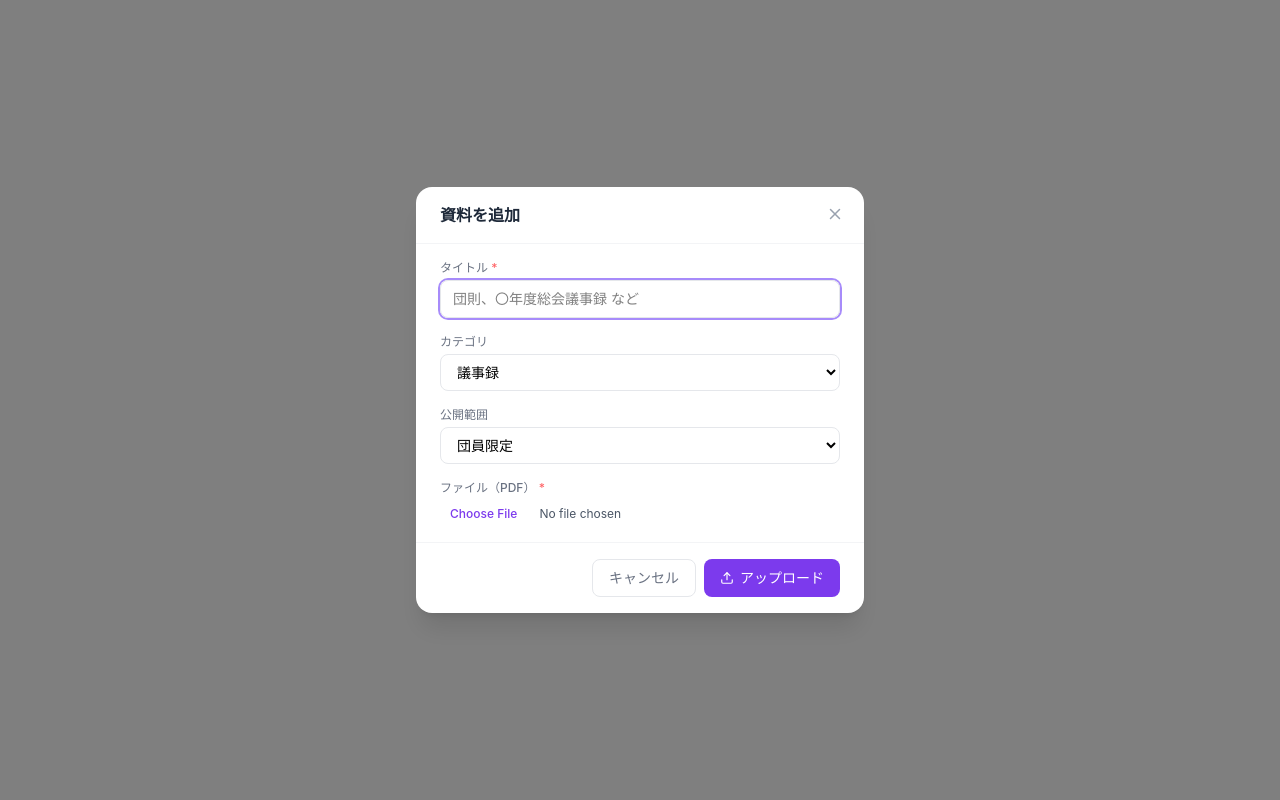
UploadModal › ファイルを選ばずにタイトルの欄でEnterを押すと、理由を出して送らない
Step 1. Type "団則" into the field labelled "タイトル *" → {"x": 640, "y": 299}, box x1=440 y1=280 x2=840 y2=318
Then press Enter
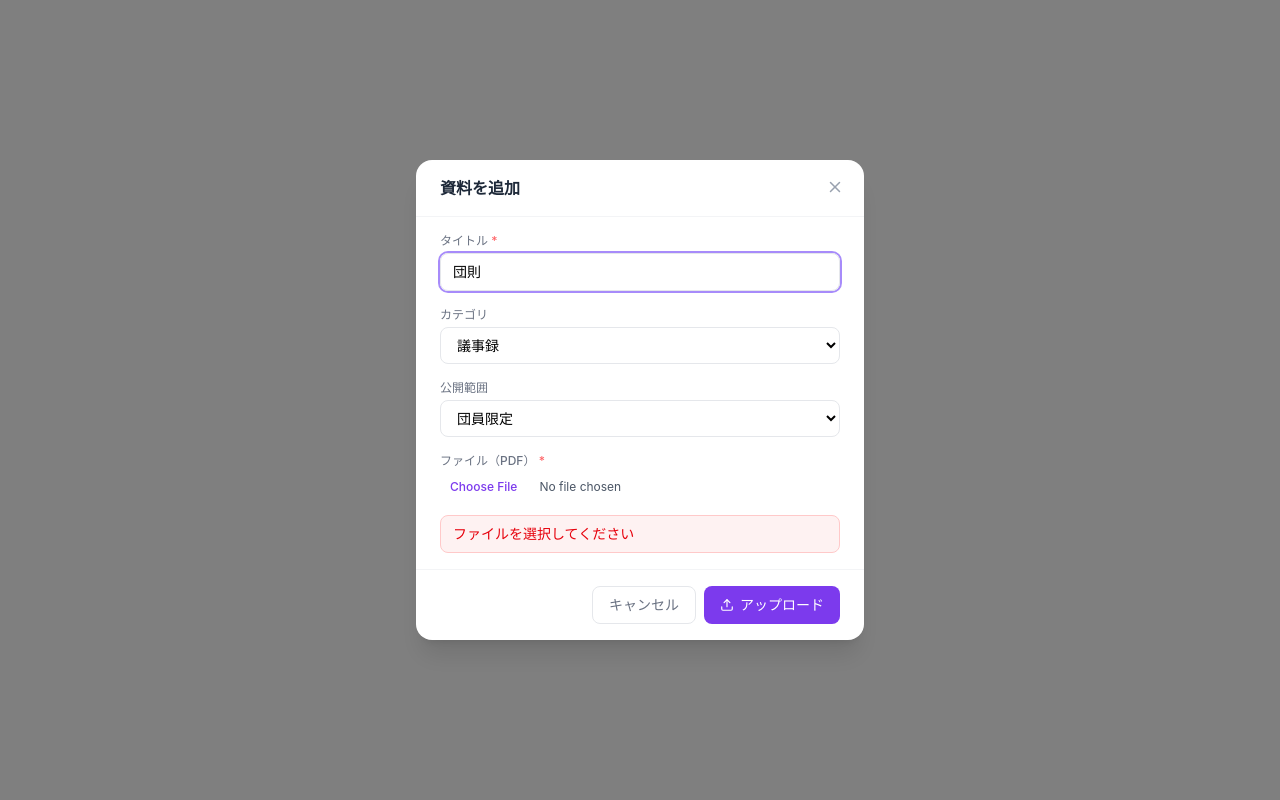
Now the message reads "ファイルを選択してください", box x1=453 y1=525 x2=634 y2=542
